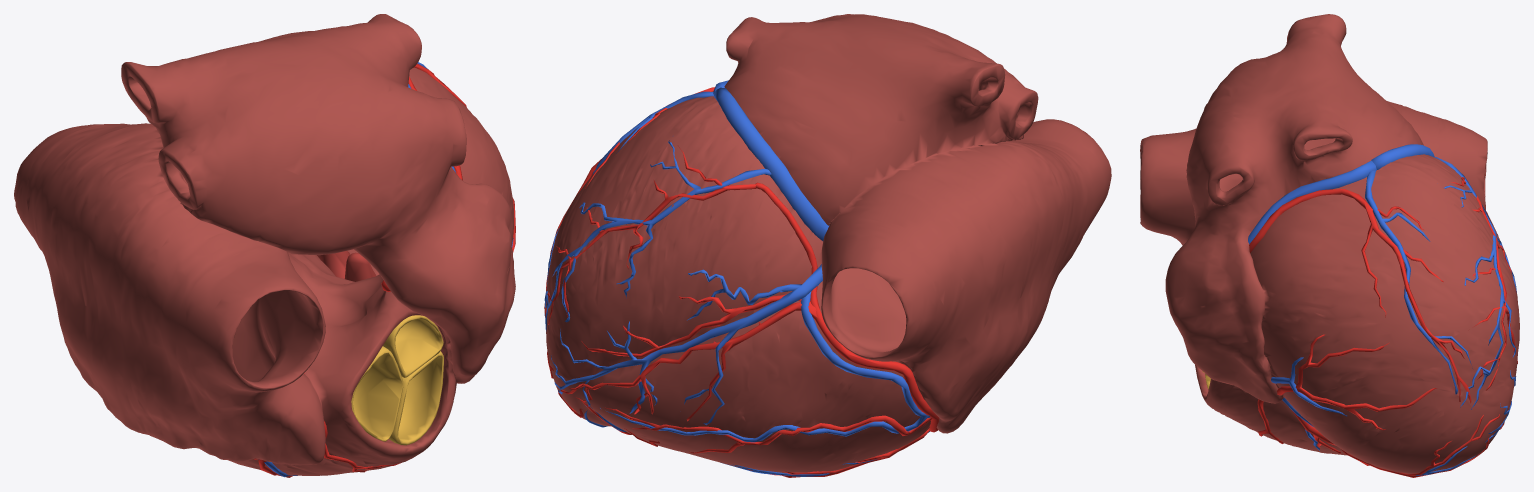
Rendered from heart.glb.
3 renders of one model, left to right at view 1: azimuth 30°, elevation 25°; view 2: azimuth 150°, elevation 25°; view 3: azimuth 270°, elevation 25°, orthographic. The views are drawn at different scales.
Visible parts, largest first — view 1: Жүрек бұлшықеті (қабырғасы), Өкпе бағанасының қақпақшасы, Емізікше бұлшықеттер, Тәждік (коронарлық) артериялар; view 2: Жүрек бұлшықеті (қабырғасы), Жүрек веналары, Тәждік (коронарлық) артериялар; view 3: Жүрек бұлшықеті (қабырғасы), Тәждік (коронарлық) артериялар, Жүрек веналары.
Boxes of the visible parts, left/top/right/bottom form: Жүрек бұлшықеті (қабырғасы): left=14, top=14, right=515, bottom=475; Өкпе бағанасының қақпақшасы: left=351, top=315, right=443, bottom=445; Емізікше бұлшықеттер: left=317, top=251, right=376, bottom=281; Тәждік (коронарлық) артериялар: left=253, top=63, right=515, bottom=477; Жүрек бұлшықеті (қабырғасы): left=546, top=14, right=1111, bottom=473; Жүрек веналары: left=544, top=80, right=930, bottom=476; Тәждік (коронарлық) артериялар: left=544, top=87, right=939, bottom=477; Жүрек бұлшықеті (қабырғасы): left=1140, top=14, right=1519, bottom=473; Тәждік (коронарлық) артериялар: left=1249, top=177, right=1517, bottom=477; Жүрек веналары: left=1248, top=144, right=1516, bottom=475.
Bounding box in the file's own units: 116 × 110 × 105.
